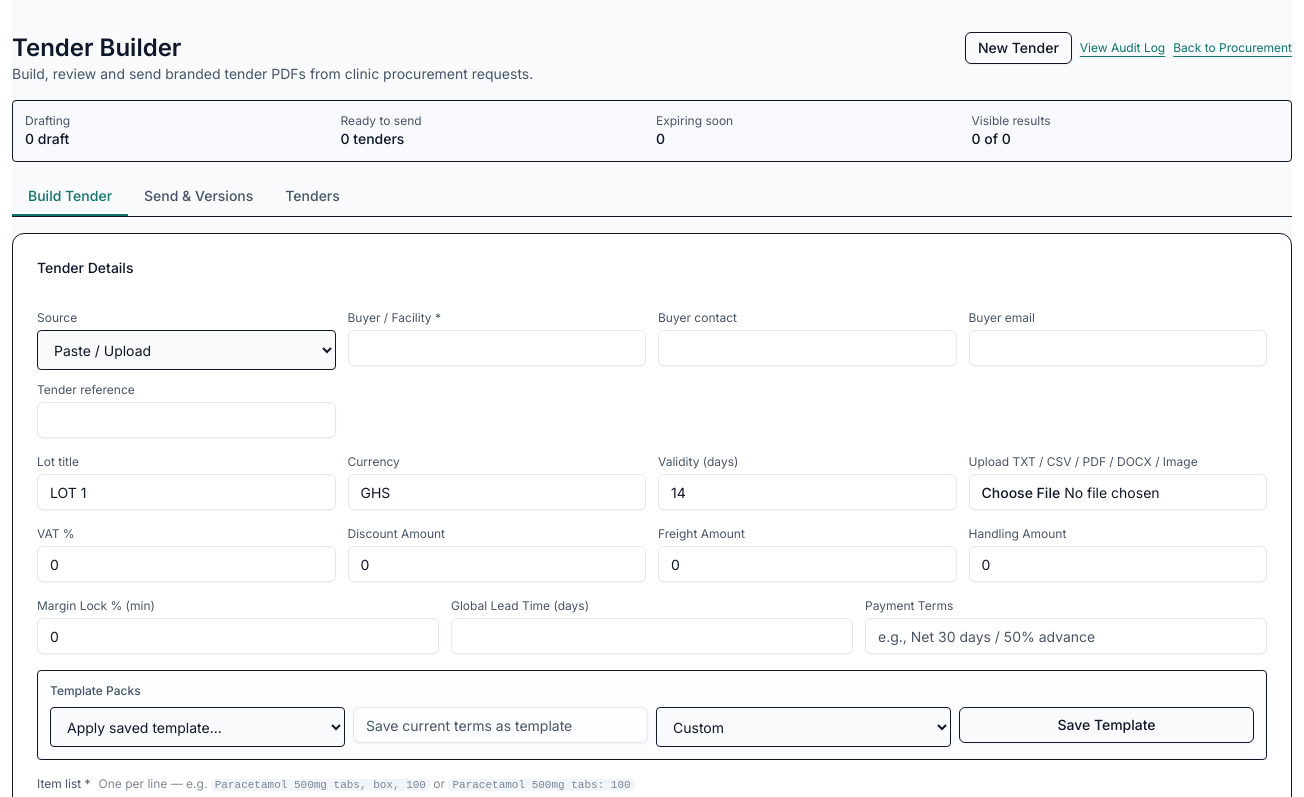
AdminB2BTendersPage › shows only send-eligible tenders in the send selector and pre-fills recipient email
Click the tab "Send & Versions" at (199, 197), box x1=128 y1=178 x2=269 y2=216
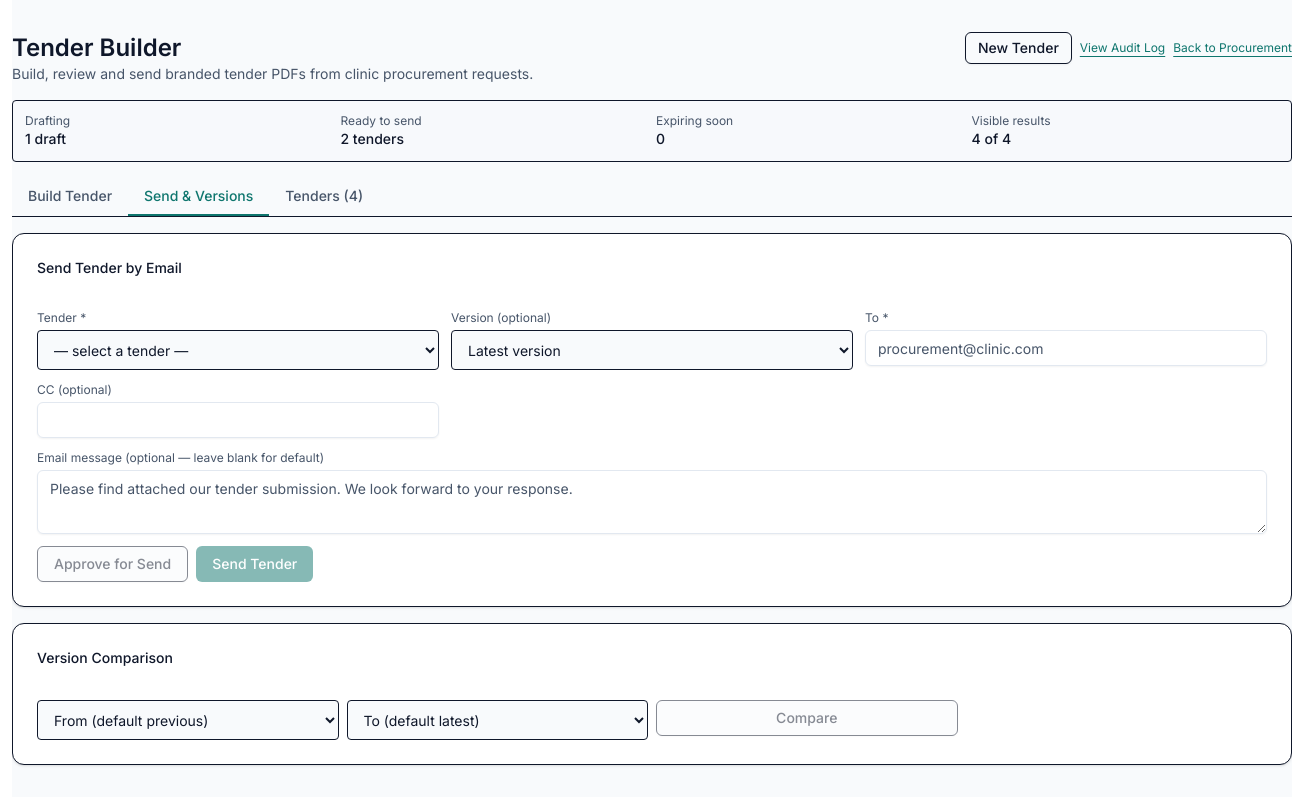
Select "TND-2026-submitted | Submitted Clinic | SUBMITTED" in the dropdown showing "— select a tender —" below "Tender *" at (238, 350), box x1=37 y1=330 x2=439 y2=370
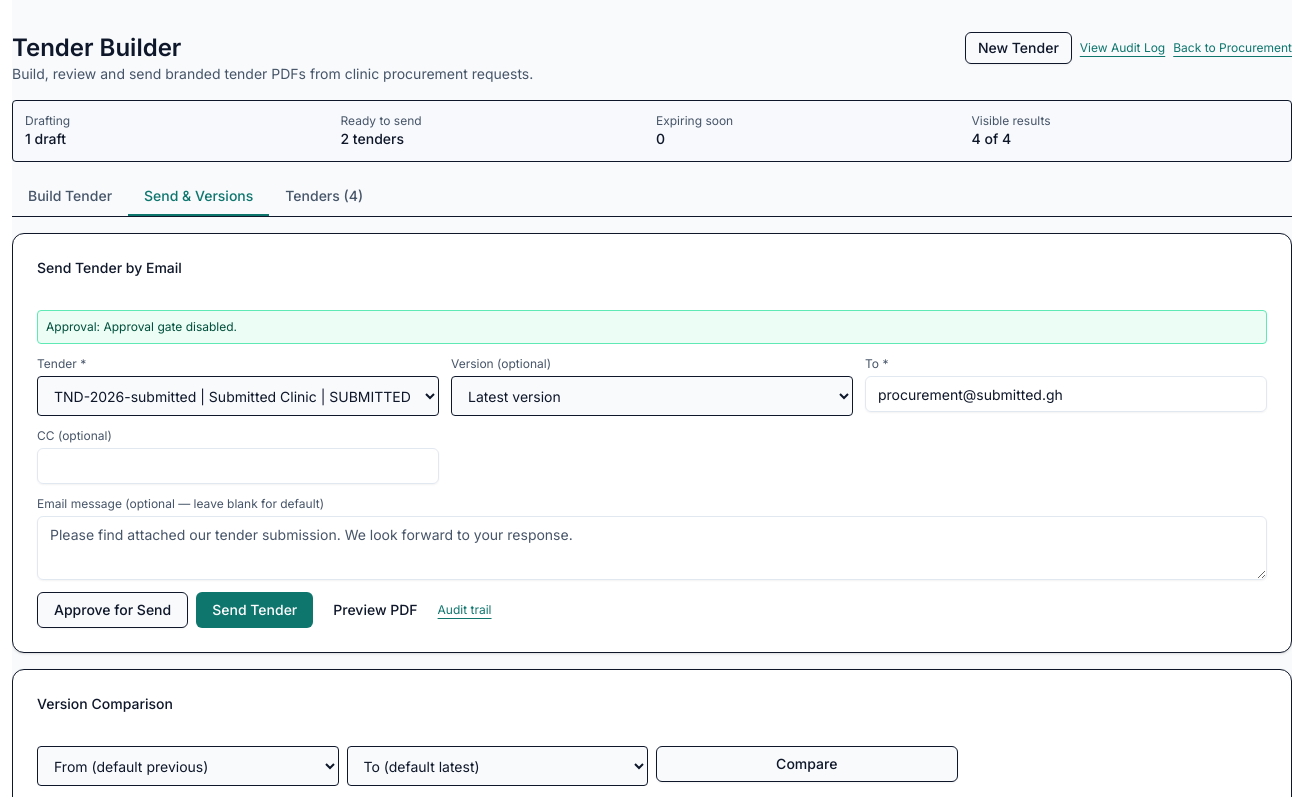
Result: the field showing "procurement@submitted.gh" below "To *" is shown at x1=865 y1=376 x2=1267 y2=412
Result: the button "Send Tender" is enabled at x1=196 y1=592 x2=313 y2=628
